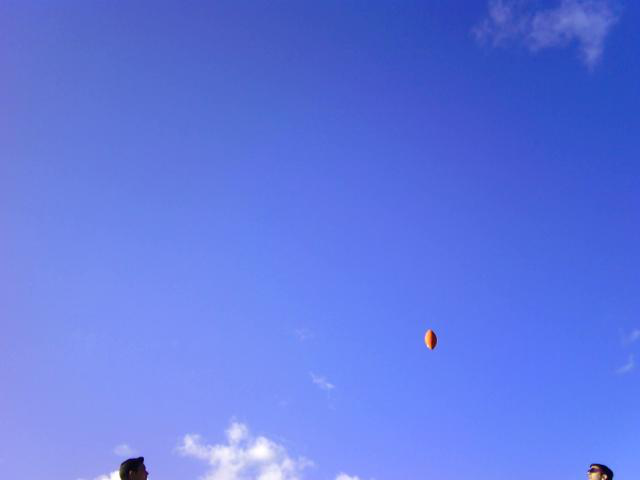football: (420, 328, 442, 357)
